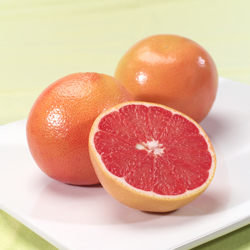grapefruit: (90, 102, 216, 211), (26, 75, 127, 184), (116, 32, 223, 113)
